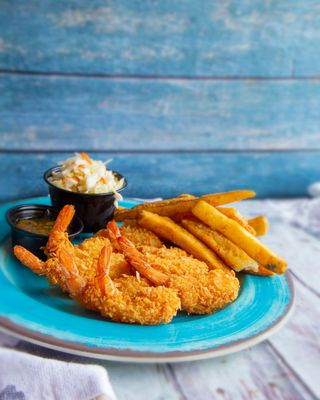curry: (0, 99, 320, 398)
